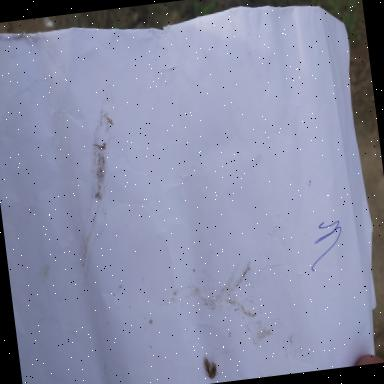pbw: (202, 355, 218, 379)
